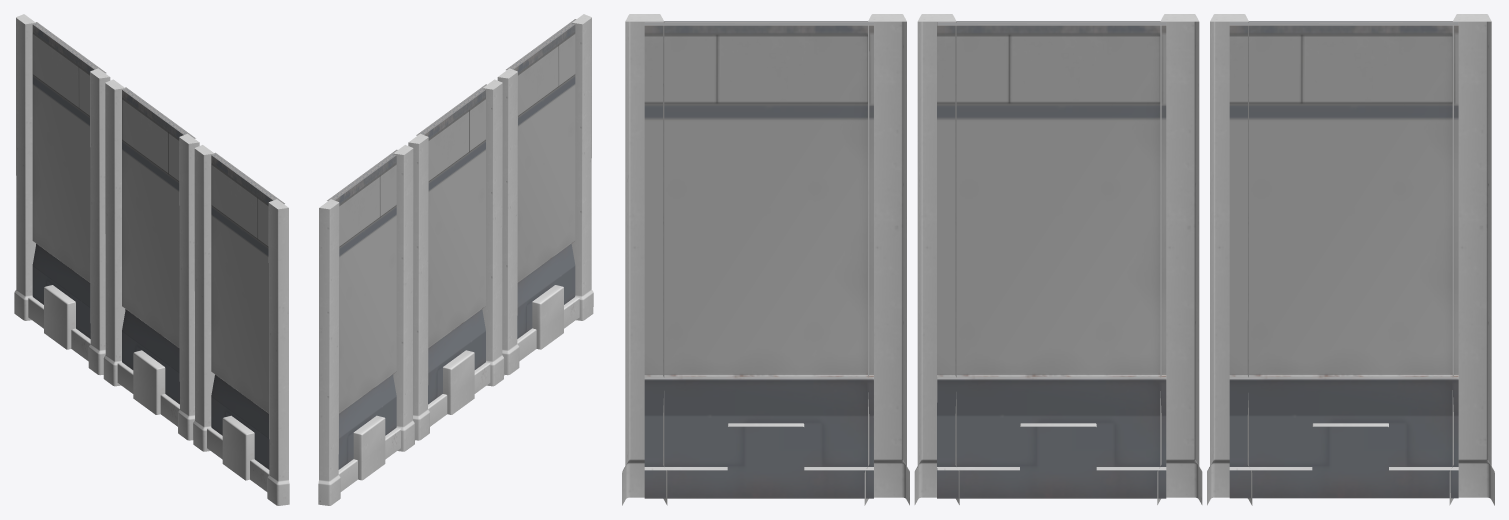
Rendered from Pfb_JALB_WallPart2_Line__29.fbx.
3 views of the same model, side by side, from view 1: azimuth 30°, elevation 25°; view 2: azimuth 150°, elevation 25°; view 3: azimuth 270°, elevation 25° (orthographic). The views are drawn at different scales.
Visible parts, largest first — view 1: MAT_JLABWall; view 2: MAT_JLABWall; view 3: MAT_JLABWall.
Boxes of the visible parts, box(x1,y1,x2,y2) form: MAT_JLABWall: box(14, 14, 289, 505); MAT_JLABWall: box(318, 14, 593, 505); MAT_JLABWall: box(622, 14, 1494, 505).
Bounding box in the file's own units: 0.2094 × 4.04 × 6.6.
1 material, 1 textured.
